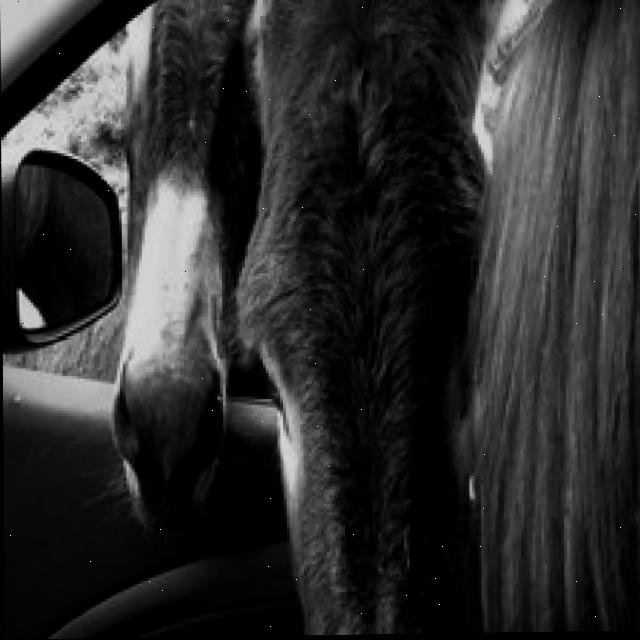Donkey: (106, 0, 522, 635)
